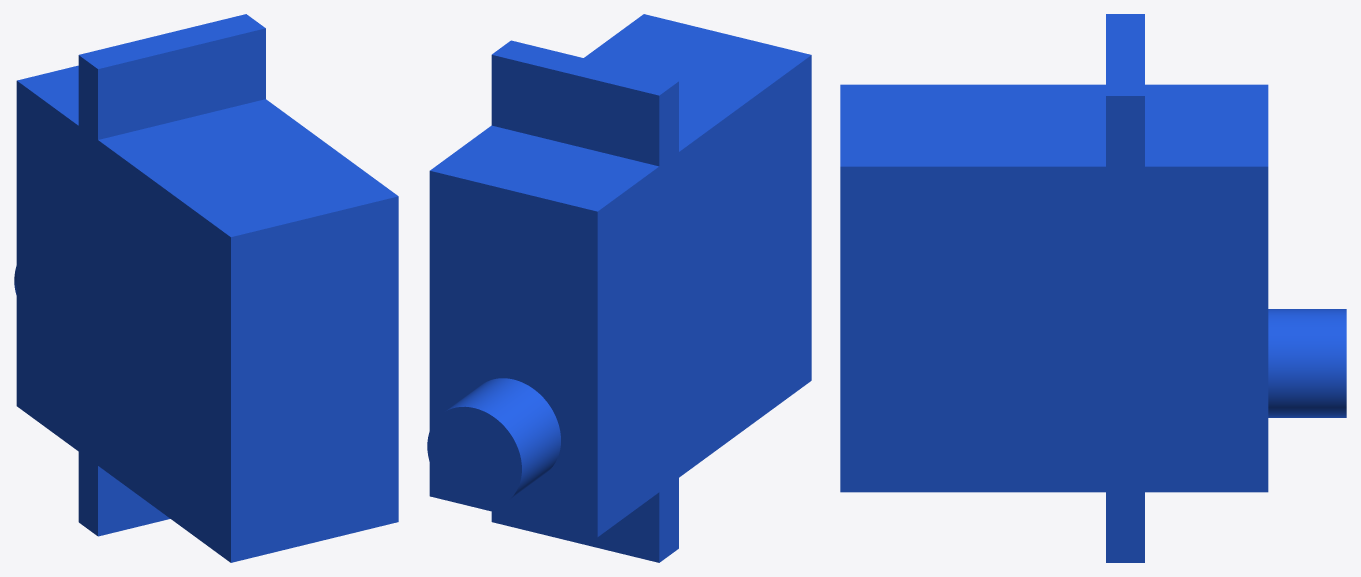
File: servo_a.glb
The picture shows the model from 3 angles, left to right: view 1: azimuth 30°, elevation 25°; view 2: azimuth 150°, elevation 25°; view 3: azimuth 270°, elevation 25°; orthographic projection.
Parts seen in each view (by area): view 1: servo_a; view 2: servo_a; view 3: servo_a.
Boxes of the visible parts, bbox=[...] form: servo_a: bbox=[14, 14, 398, 562]; servo_a: bbox=[427, 14, 811, 562]; servo_a: bbox=[840, 14, 1346, 562].
Size of the model in its own units: 0.0124 by 0.033 by 0.0324.
